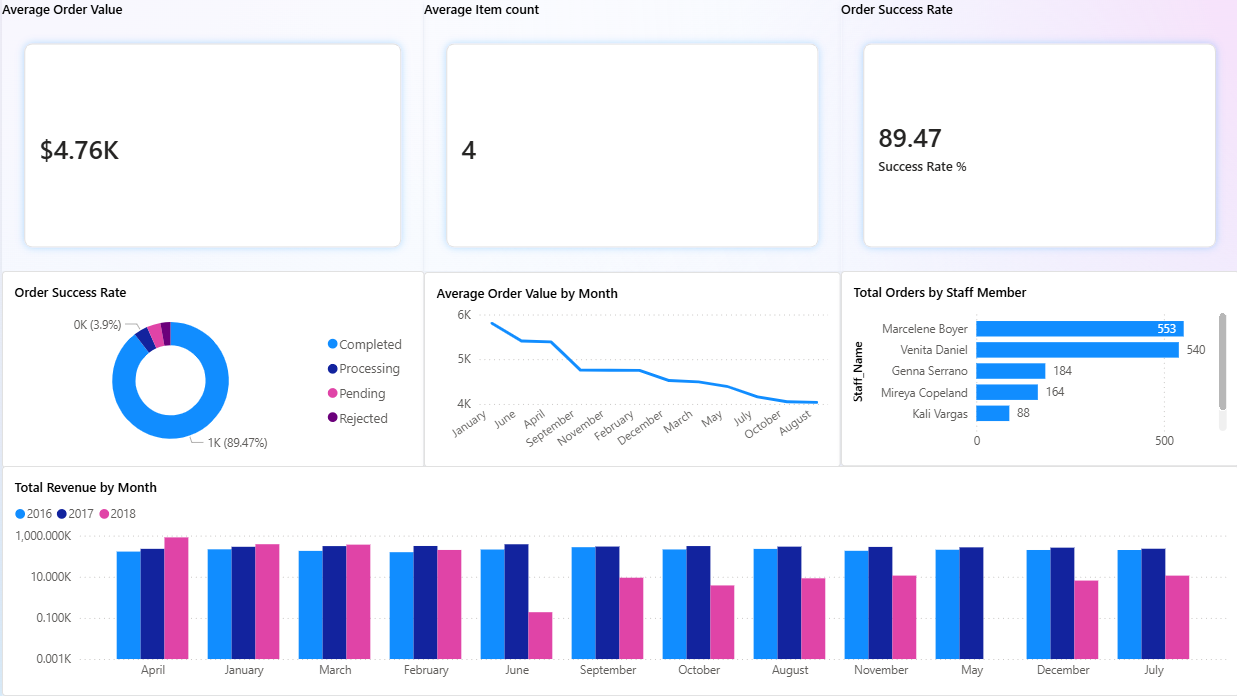

This screenshot's page, from the dashboard's own definition file:
{"tool":"powerbi","page":{"name":"Order Management","canvas":[1280,720],"ordinal":2},"visuals":[{"type":"cardVisual","title":" Average Order Value","fields":{"Data":["Avg(Fact_Orders.Order_Total_Value)"]},"box":[0,0,436.1,279.8],"z":0},{"type":"cardVisual","title":"Order Success Rate","fields":{"Data":["Fact_Orders.Success Rate %"]},"box":[868,0,412,279.9],"z":1},{"type":"cardVisual","title":"Average Item count","fields":{"Data":["Avg(Fact_Orders.Item_Count)"]},"box":[436.1,0,432,279.8],"z":2},{"type":"donutChart","title":"Order Success Rate","fields":{"Category":["Dim_Order_Status.Status_Description"],"Y":["Fact_Orders.Measure 2"]},"box":[0,279.9,436.6,204.2],"z":3},{"type":"lineChart","title":"Average Order Value by Month","fields":{"Category":["Dim_Date.MonthName"],"Y":["Avg(Fact_Orders.Order_Total_Value)"]},"box":[436.6,281.7,431.4,202.5],"z":4},{"type":"clusteredBarChart","title":"Total Orders by Staff Member","fields":{"Category":["Dim_Staff.Staff_Name"],"Y":["Fact_Orders.Measure 2"]},"box":[868,279.9,412,202.5],"z":5},{"type":"clusteredColumnChart","title":"Total Revenue by Month","fields":{"Category":["Dim_Date.MonthName"],"Y":["Sum(Fact_Orders.Order_Total_Value)"],"Series":["Dim_Date.Year"]},"box":[0,482.4,1280,237.7],"z":6}]}

Visuals, with their boxes in screenshot pixels (x1, y1, x2, y2), scaled from the page's 1280x720 canvas onto the 1237x696 screenshot:
" Average Order Value" cardVisual: [0,0,421,270]
"Order Success Rate" cardVisual: [839,0,1236,271]
"Average Item count" cardVisual: [421,0,839,270]
"Order Success Rate" donutChart: [0,271,422,468]
"Average Order Value by Month" lineChart: [422,272,839,468]
"Total Orders by Staff Member" clusteredBarChart: [839,271,1236,466]
"Total Revenue by Month" clusteredColumnChart: [0,466,1236,695]
